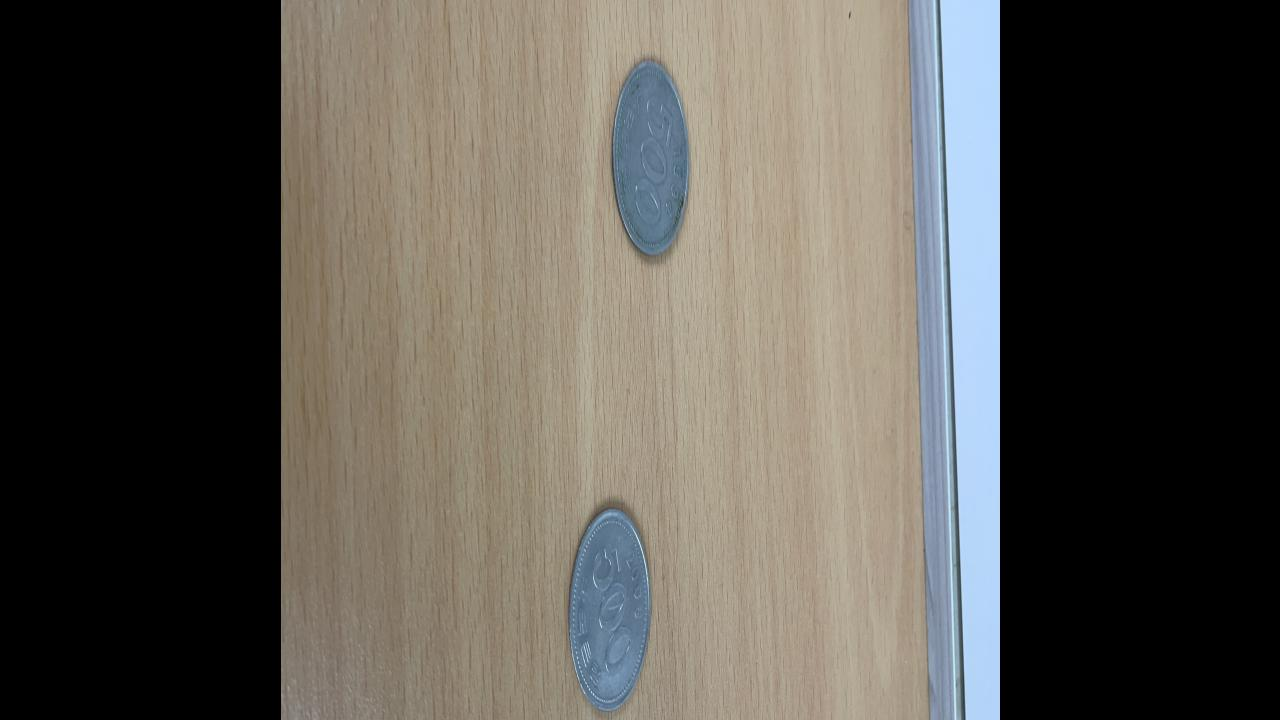coin: (568, 506, 650, 712), (610, 53, 689, 258)
